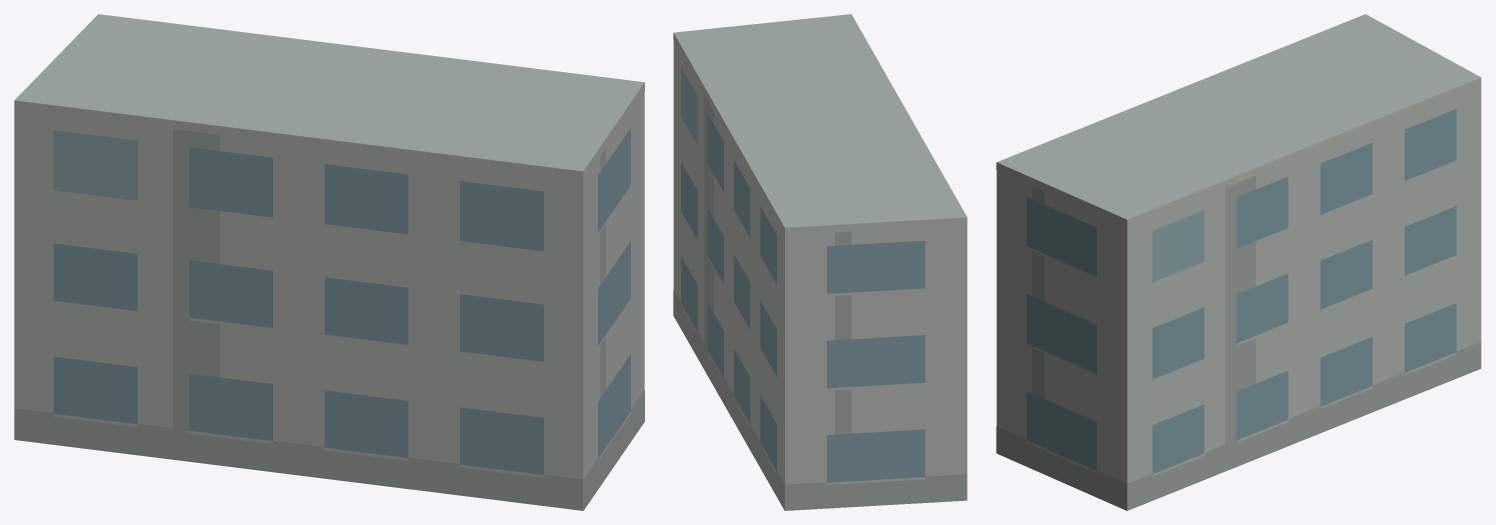
File: residential-0336dea3-c7c5-48f1-9a1a-34ad60966807.glb
3 views of the same model, side by side, from view 1: azimuth 30°, elevation 25°; view 2: azimuth 150°, elevation 25°; view 3: azimuth 270°, elevation 25° (orthographic). The views are drawn at different scales.
Visible parts, largest first — view 1: residential-0336dea3-c7c5-48f1-9a1a-34ad60966807.tmp; view 2: residential-0336dea3-c7c5-48f1-9a1a-34ad60966807.tmp; view 3: residential-0336dea3-c7c5-48f1-9a1a-34ad60966807.tmp.
Boxes of the visible parts, x1,y1,x2,y2 form: residential-0336dea3-c7c5-48f1-9a1a-34ad60966807.tmp: [14, 14, 644, 510]; residential-0336dea3-c7c5-48f1-9a1a-34ad60966807.tmp: [673, 14, 967, 510]; residential-0336dea3-c7c5-48f1-9a1a-34ad60966807.tmp: [996, 14, 1481, 510].
Size of the model in its own units: 13.87 by 9.15 by 13.81.
